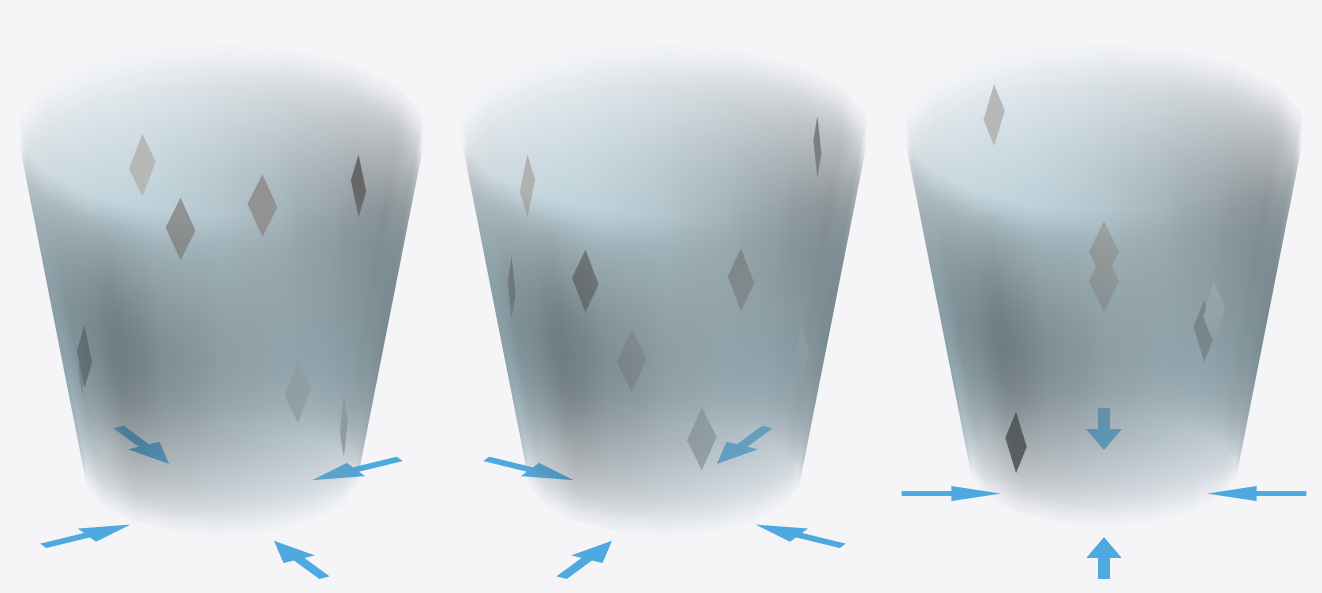
File: minjing_xz.fb4b40d.glb
The picture shows the model from 3 angles, left to right: view 1: azimuth 30°, elevation 25°; view 2: azimuth 150°, elevation 25°; view 3: azimuth 270°, elevation 25°; orthographic projection.
Parts seen in each view (by area): view 1: Box012, 星点003, Plane004; view 2: Box012, 星点003, Plane004; view 3: Box012, 星点003, Plane004.
Part boxes in pixels (x1,y1,x2,y2): Box012: (22,63,420,517); 星点003: (77,134,366,456); Plane004: (40,426,402,578); Box012: (465,63,863,517); 星点003: (508,117,821,469); Plane004: (483,426,845,578); Box012: (908,62,1299,508); 星点003: (983,85,1224,472); Plane004: (901,408,1306,578).
Bounding box in the file's own units: 1.24 × 1.32 × 1.22.
3 materials, 1 textured.
